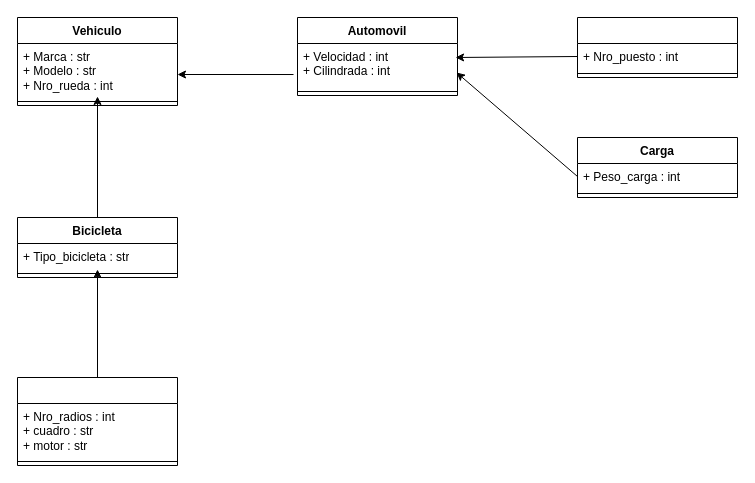
The diagram is 755 pixels wide and 483 high, and some of its shapes have lost their labels. Here are the shapes that lost their labels. From the top down, the box of each, then its label:
(576, 16, 738, 78): Particular
(16, 376, 178, 466): Motocicleta
